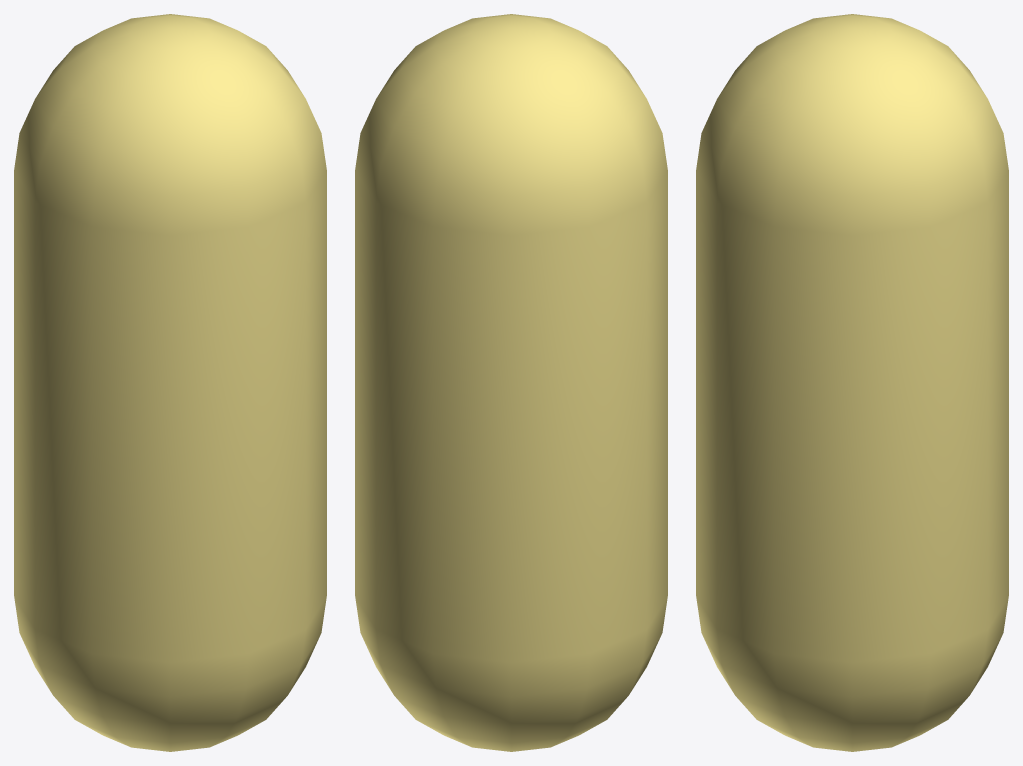
Rendered from CapsuleNode.FBX.
3 views of the same model, side by side, from view 1: azimuth 30°, elevation 25°; view 2: azimuth 150°, elevation 25°; view 3: azimuth 270°, elevation 25° (orthographic).
Visible parts, largest first — view 1: Capsule001; view 2: Capsule001; view 3: Capsule001.
Boxes of the visible parts, bbox=[...] form: Capsule001: bbox=[14, 14, 326, 751]; Capsule001: bbox=[355, 14, 667, 751]; Capsule001: bbox=[696, 14, 1008, 751].
Bounding box in the file's own units: 2 × 5.01 × 2.
